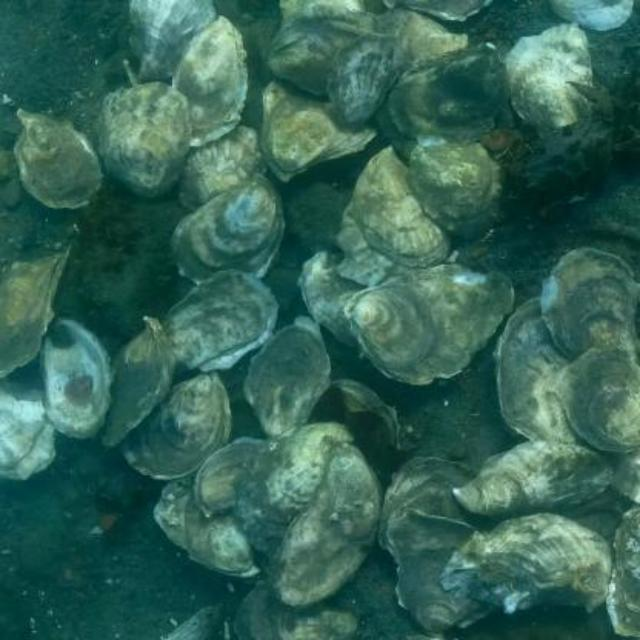Oyster-Closed: (496, 297, 640, 503), (342, 263, 514, 385), (270, 442, 380, 607), (442, 512, 612, 612), (232, 420, 358, 554), (335, 146, 452, 285), (387, 510, 503, 631), (171, 176, 286, 284), (453, 438, 614, 515), (121, 372, 232, 482), (389, 45, 509, 146), (377, 458, 499, 554), (162, 271, 279, 371), (542, 248, 640, 366), (260, 81, 377, 179), (97, 83, 191, 199), (155, 473, 259, 577), (269, 3, 382, 96), (244, 317, 330, 436), (173, 17, 249, 147), (102, 316, 175, 447), (506, 26, 592, 133), (411, 143, 507, 236), (0, 249, 69, 378), (15, 111, 104, 209), (555, 348, 640, 450), (179, 126, 268, 211), (234, 583, 358, 640), (329, 33, 404, 126), (131, 0, 217, 81), (299, 253, 369, 350), (377, 7, 470, 73), (195, 437, 271, 517), (337, 381, 422, 449), (0, 380, 56, 481), (607, 507, 640, 636), (550, 0, 636, 29), (383, 0, 489, 23), (162, 606, 227, 640), (280, 0, 364, 26)
